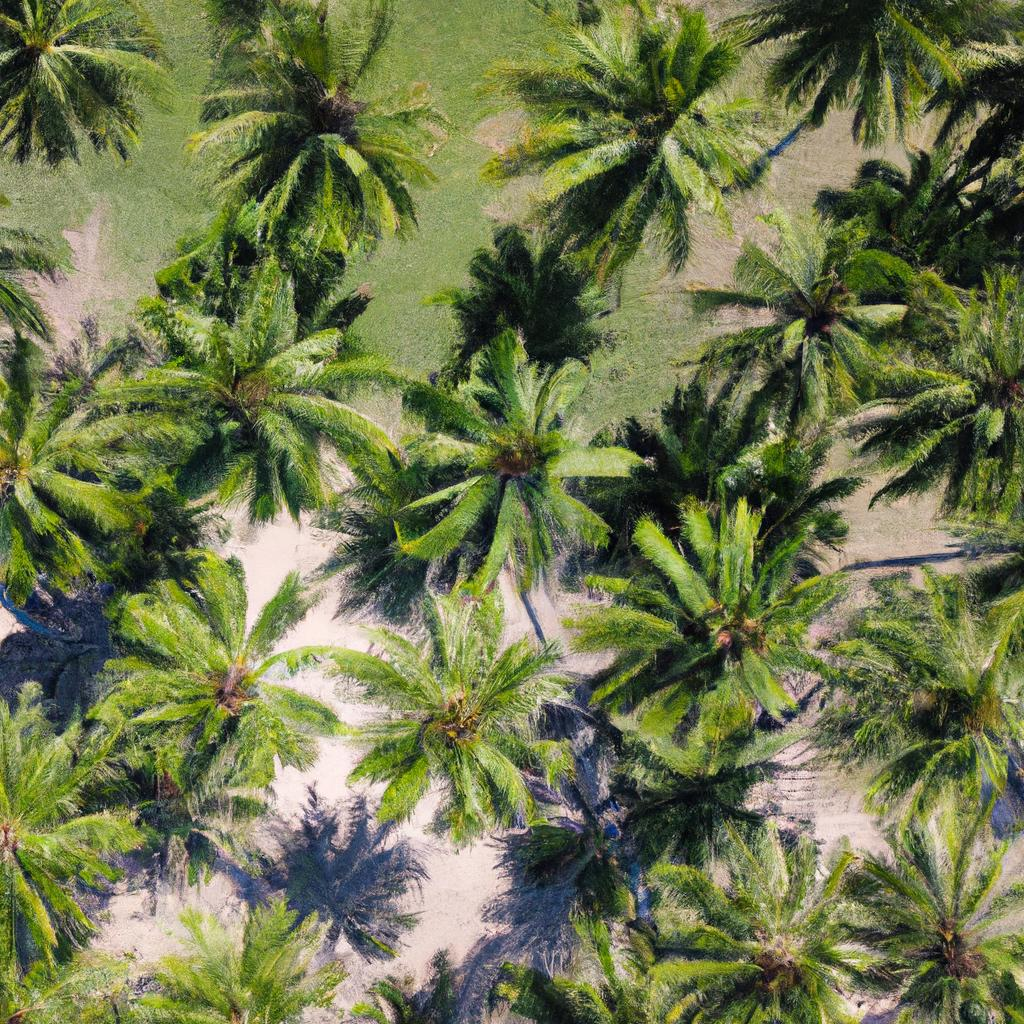coconut_tree: (496, 8, 780, 248), (380, 345, 624, 562), (126, 286, 367, 493), (212, 28, 442, 235), (104, 589, 364, 772), (626, 521, 831, 740), (708, 220, 928, 412), (851, 577, 1023, 810), (345, 626, 550, 816), (659, 852, 883, 1018)
